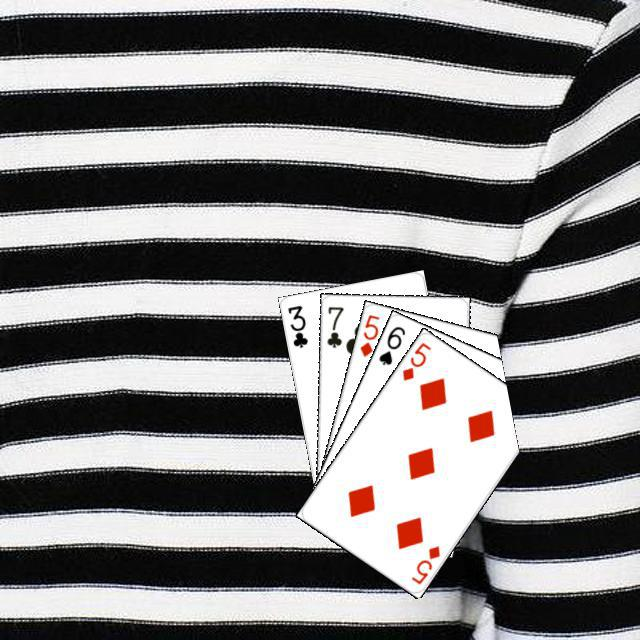3c: (283, 301, 309, 350)
5d: (406, 540, 442, 586), (397, 338, 433, 382), (355, 310, 381, 358)
6s: (374, 321, 407, 367)
7c: (322, 302, 345, 349)
